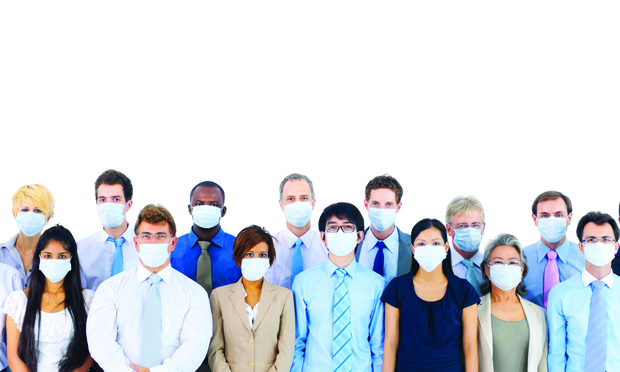with_mask: (137, 218, 171, 268), (322, 211, 359, 256), (367, 183, 401, 231), (450, 203, 483, 252), (580, 219, 613, 268), (282, 182, 315, 227), (13, 195, 49, 236), (99, 178, 127, 230), (415, 228, 448, 270), (239, 237, 270, 281), (490, 246, 522, 288), (536, 198, 568, 240), (41, 241, 71, 283), (191, 192, 222, 229)
